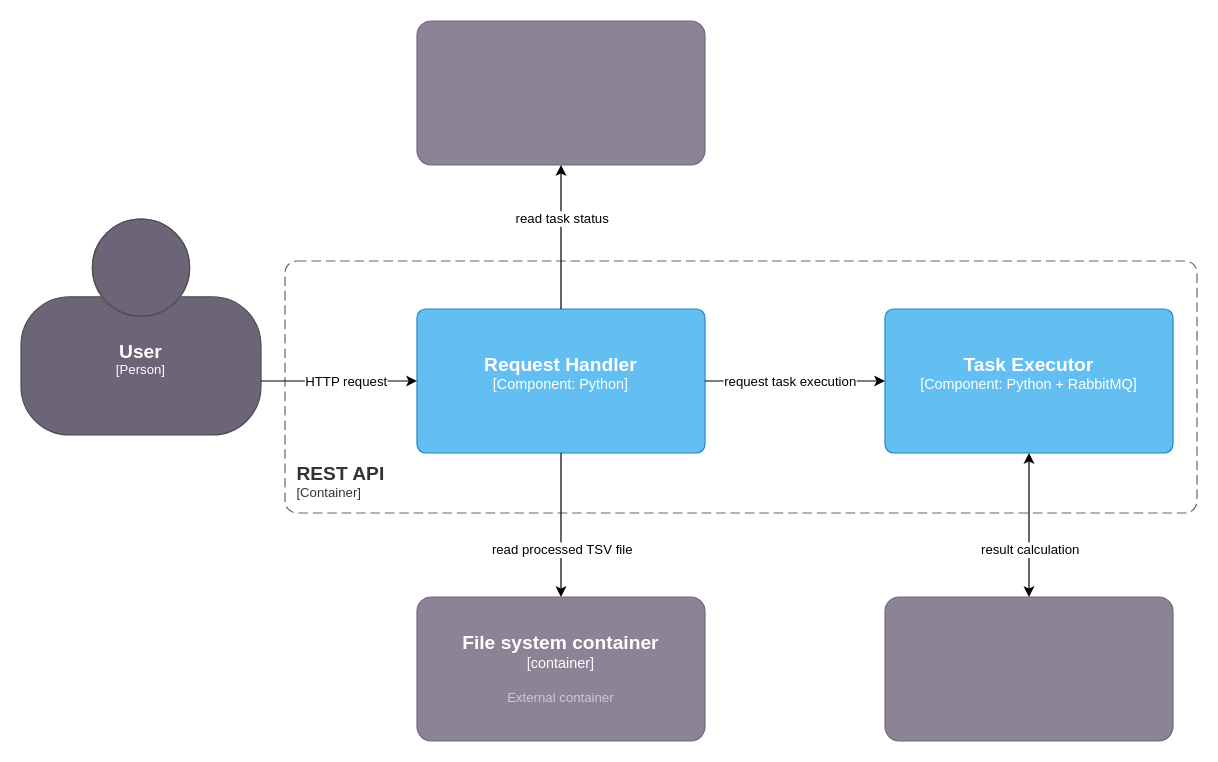
The diagram is 1218 pixels wide and 762 high, and some of its shapes have lost their labels. The shapes that lost their labels are listed below. From the top down, each one's centre as x and y in pixels, then its label:
At pixel 560 92: "Tasks DB container [container] External container".
At pixel 1028 668: "Orchestrator container [container] External container".
